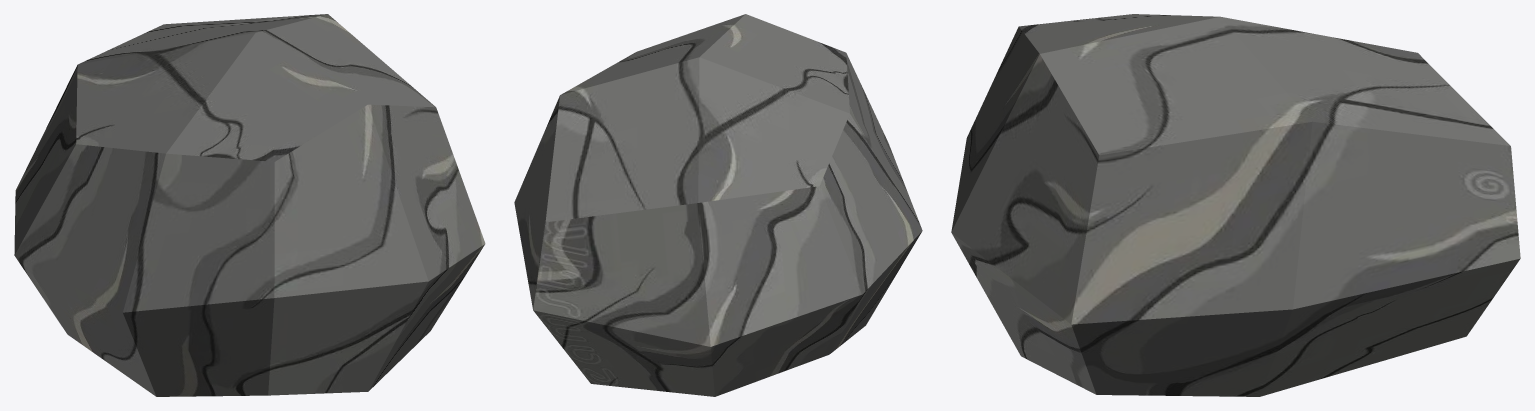
Rendered from Rock.fbx.
The picture shows the model from 3 angles, left to right: view 1: azimuth 30°, elevation 25°; view 2: azimuth 150°, elevation 25°; view 3: azimuth 270°, elevation 25°; orthographic projection. The views are drawn at different scales.
Visible parts, largest first — view 1: Cube; view 2: Cube; view 3: Cube.
Boxes of the visible parts, bbox=[...] form: Cube: bbox=[14, 14, 485, 396]; Cube: bbox=[514, 14, 922, 396]; Cube: bbox=[951, 14, 1520, 396].
Size of the model in its own units: 241 by 179 by 279.
Materials: 1 (1 with a texture image).
